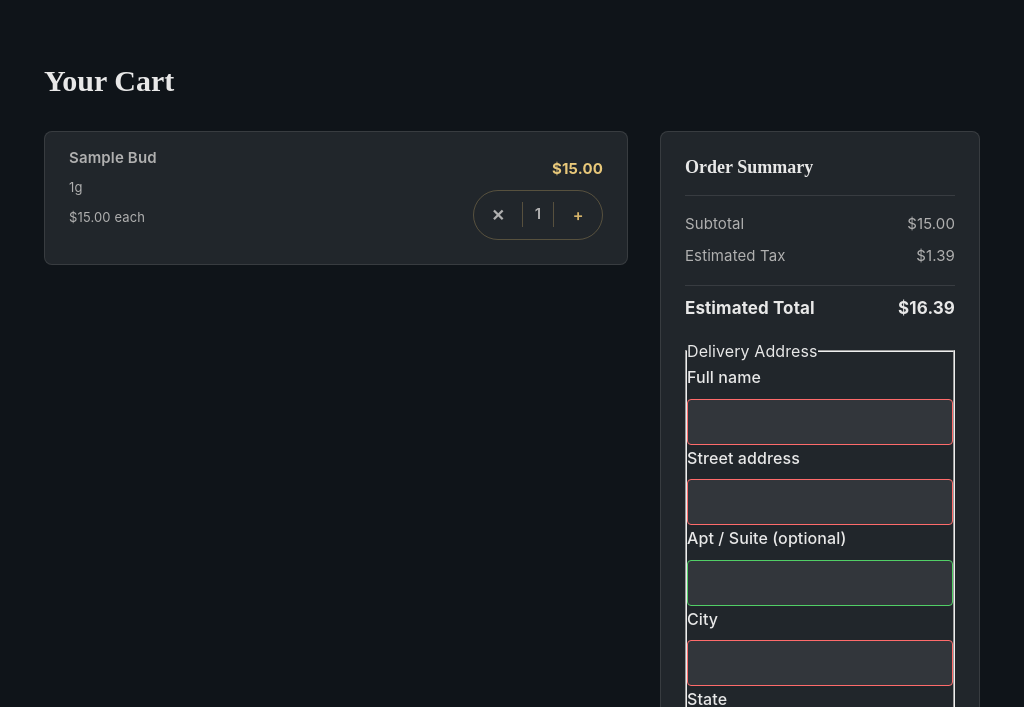
CartPage — single-button checkout › error handling › Given a network error (fetch rejects), When Checkout is clicked, Then a network error is shown
Type "KB Test" into the field labelled "Full name" at [820, 422], box [687,399,953,445]
Type "1 Main St" into the field labelled "Street address" at [820, 502], box [687,479,953,525]
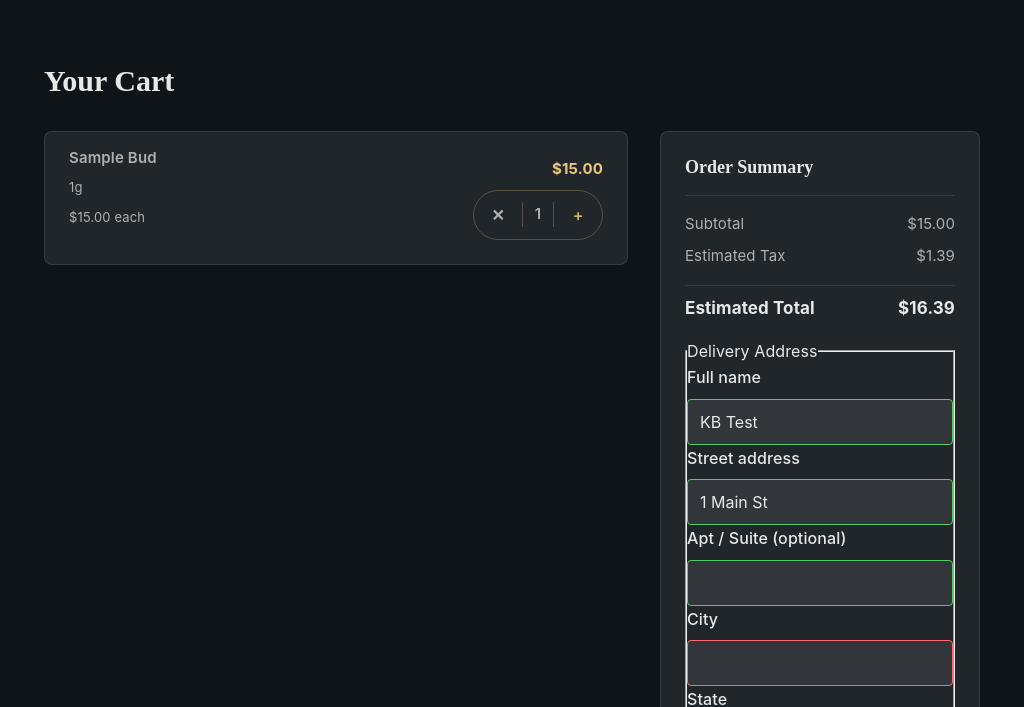
Type "Knoxville" into the field labelled "City" at [820, 663], box [687,640,953,686]
(page scrolled)
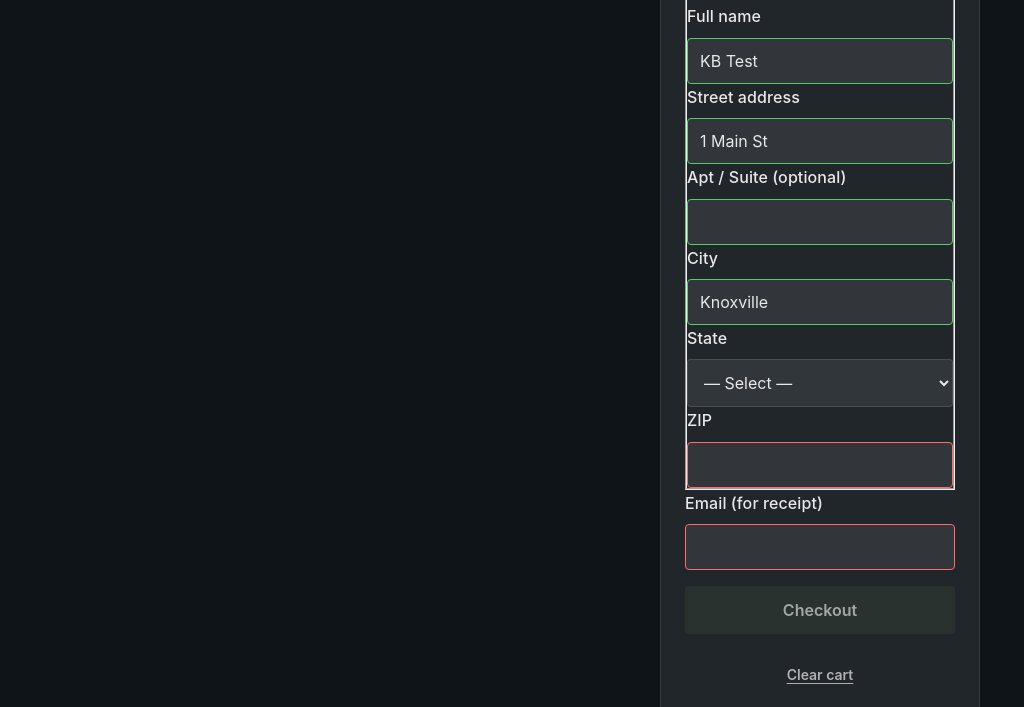
Select "Tennessee" in the dropdown labelled "State" at [820, 383], box [687,359,953,407]
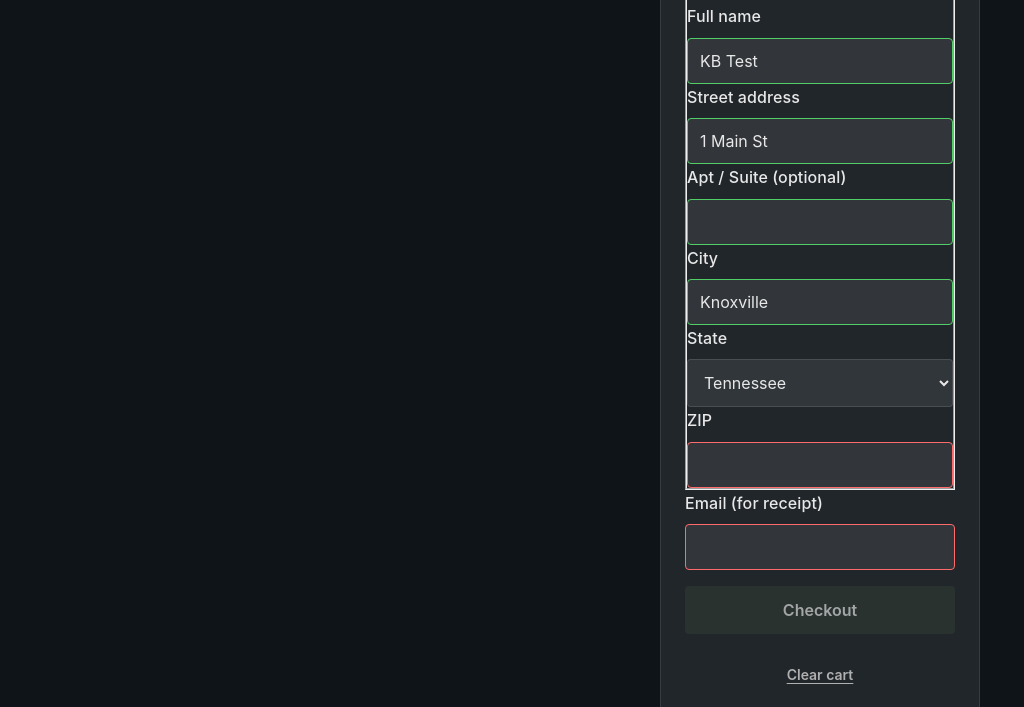
Type "37902" into the field labelled "ZIP" at [820, 465], box [687,442,953,488]
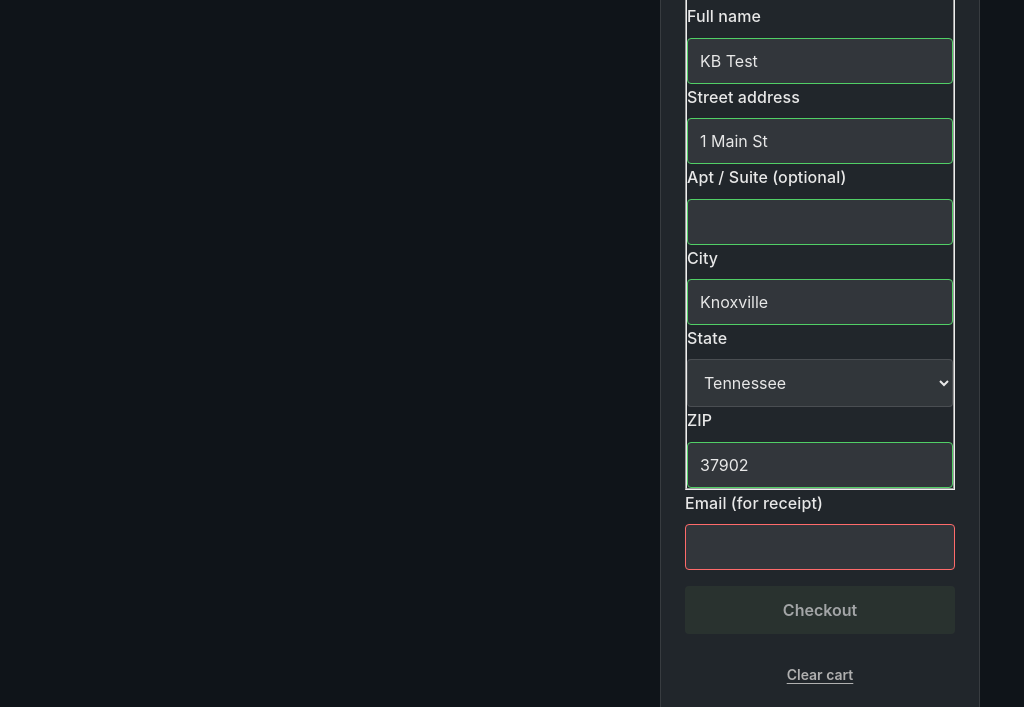
Type "kb@example.com" into the field labelled "Email (for receipt)" at [820, 547], box [685,524,955,570]
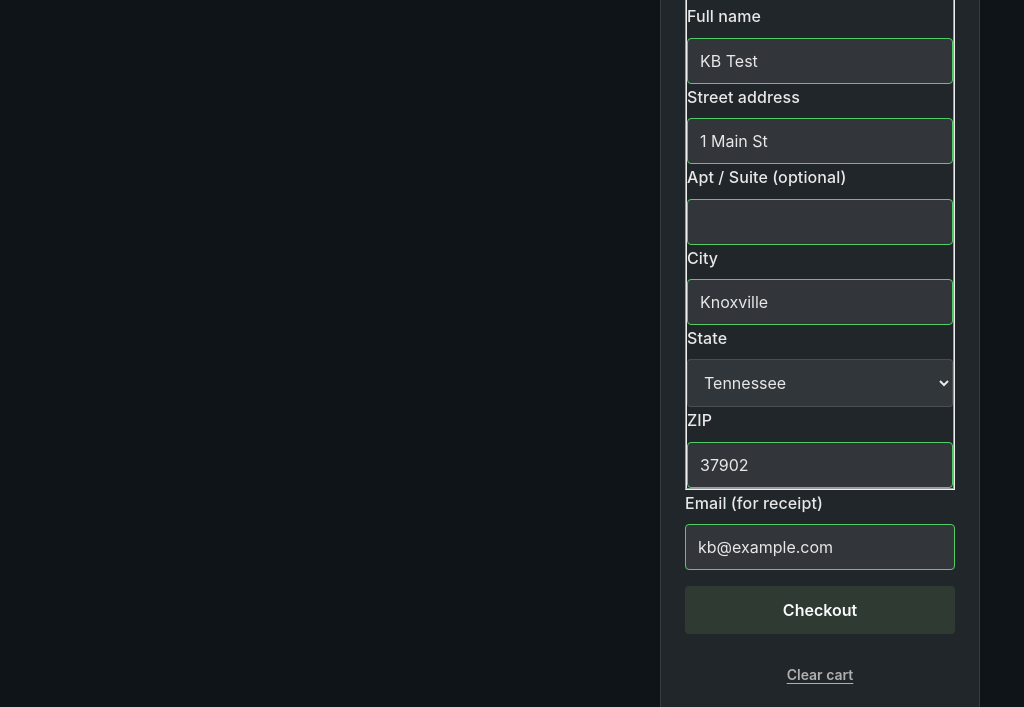
Click the button "Checkout" at [820, 610], box [685,586,955,634]
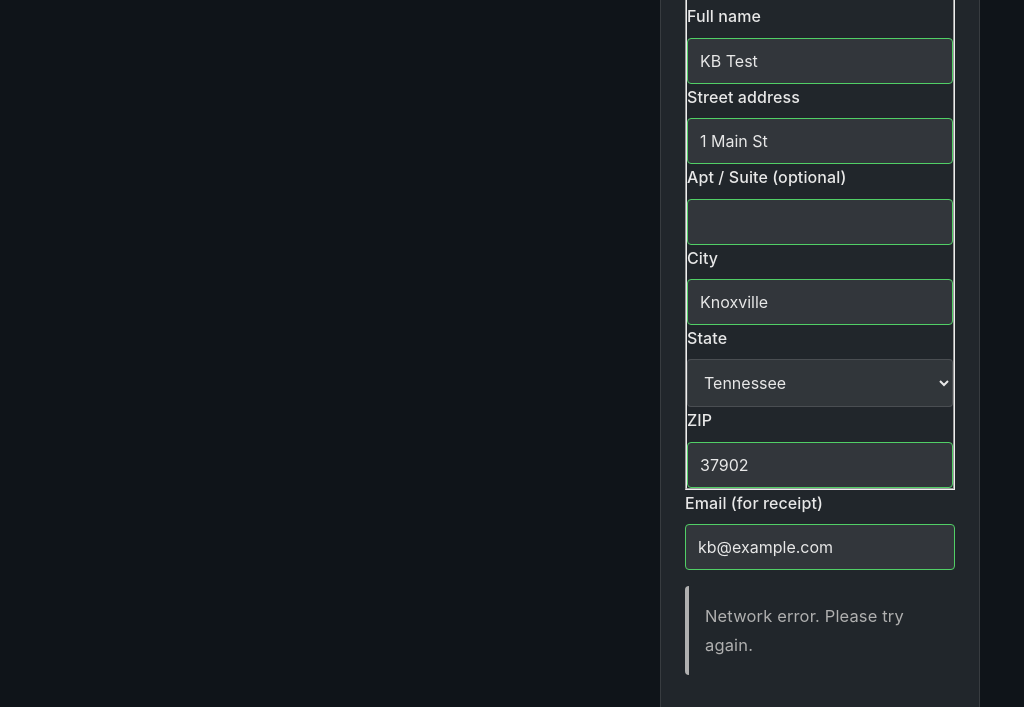
Result: the message shows "Network error" at [705,606,904,654]
